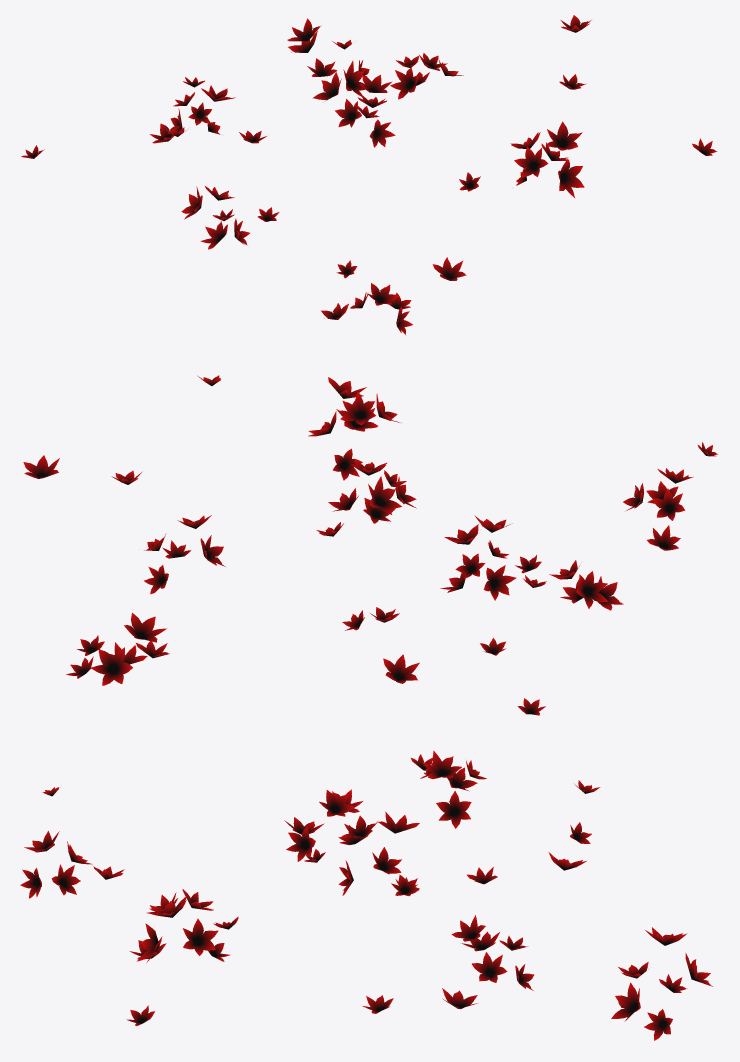
Rendered from SM_Flowers_D_01.fbx.
3 renders of one model, top to bottom at view 1: azimuth 30°, elevation 25°; view 2: azimuth 150°, elevation 25°; view 3: azimuth 270°, elevation 25°, orthographic. The views are drawn at different scales.
Visible parts, largest first — view 1: SM_Flowers_D_01_LOD0; view 2: SM_Flowers_D_01_LOD0; view 3: SM_Flowers_D_01_LOD0.
Part boxes in pixels (box(x1,y1,x2,y2)): SM_Flowers_D_01_LOD0: box(21, 15, 717, 334); SM_Flowers_D_01_LOD0: box(23, 375, 718, 715); SM_Flowers_D_01_LOD0: box(20, 750, 712, 1040).
Bounding box in the file's own units: 205 × 51.91 × 211.
